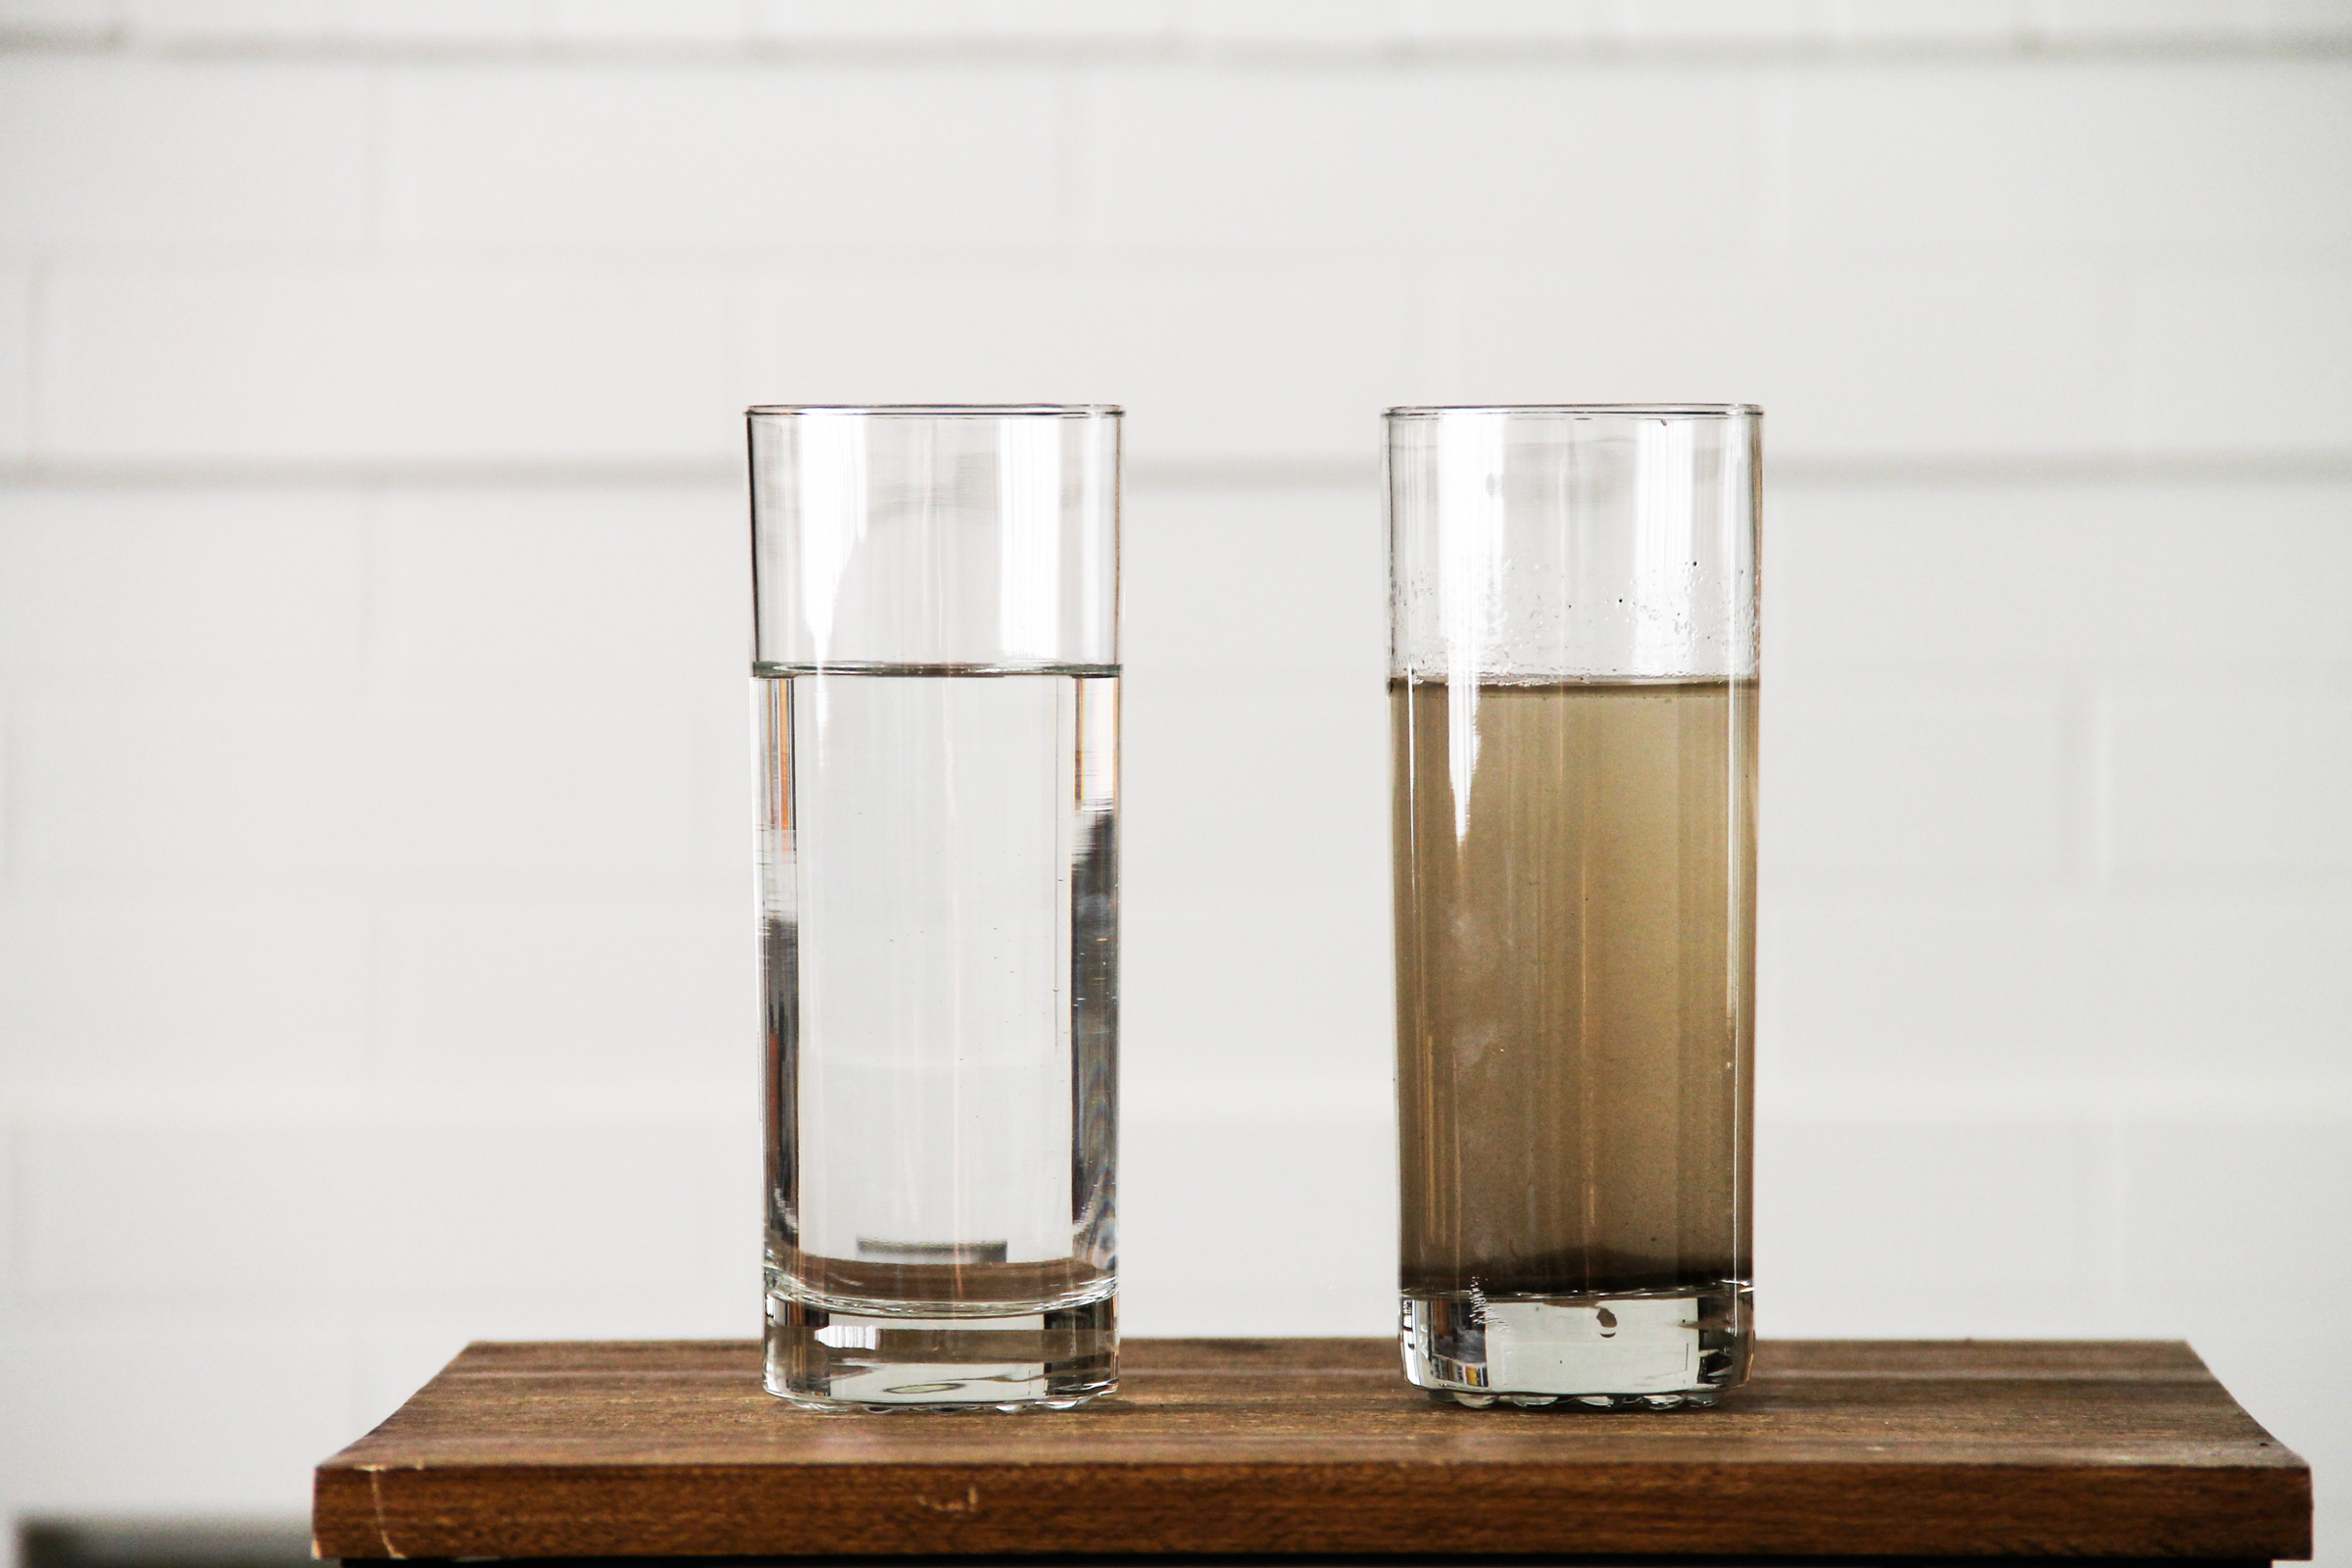glass of water: (772, 446, 1144, 1426), (1409, 416, 1757, 1396)
